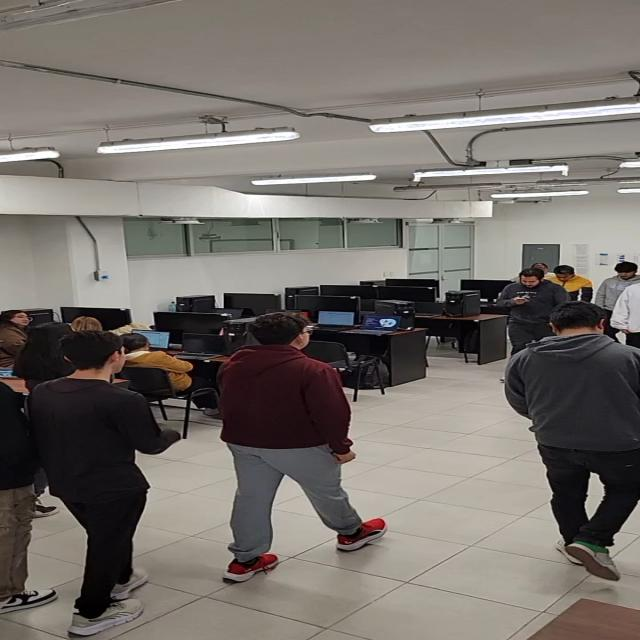Persona: (213, 320, 377, 563), (42, 335, 178, 614), (518, 308, 640, 577), (514, 272, 554, 326), (604, 264, 638, 314)
